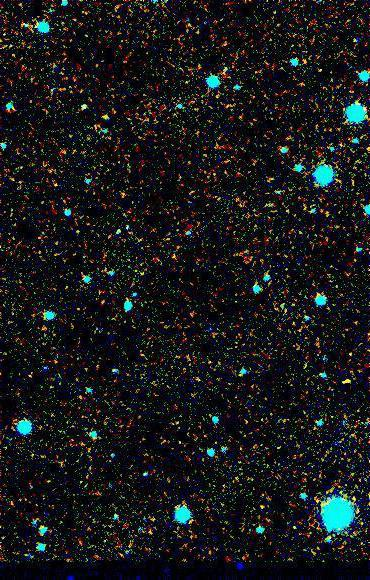star: (333, 369, 363, 399)
